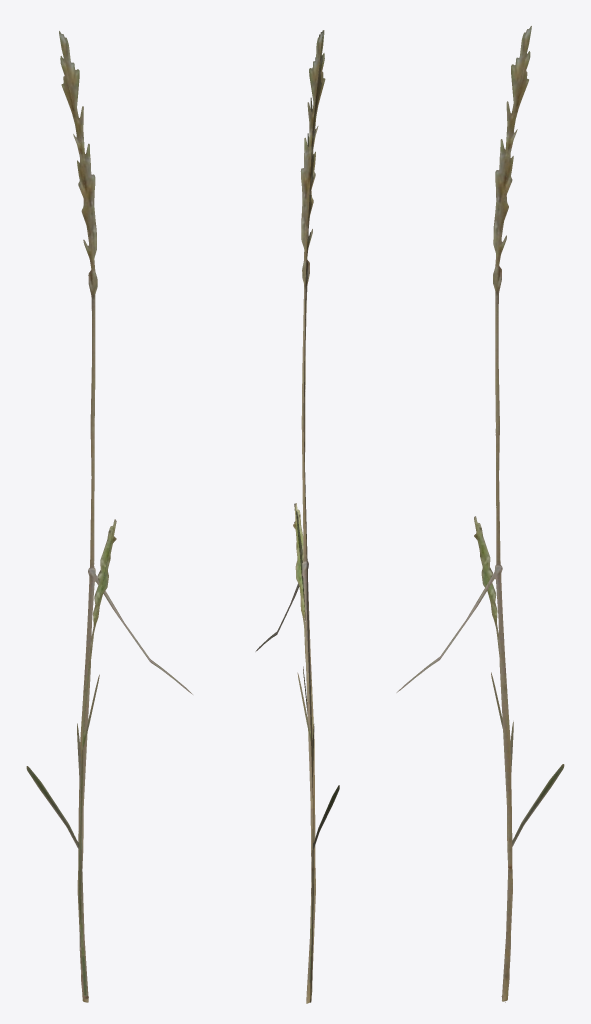
File: WheatGrass_Sprigs.glb
3 views of the same model, side by side, from view 1: azimuth 90°, elevation 25°; view 2: azimuth 210°, elevation 25°; view 3: azimuth 270°, elevation 25° (orthographic).
Parts seen in each view (by area): view 1: WheateGrass_Sprig_01, WheateGrass_Sprig_02, WheateGrass_Sprig_03; view 2: WheateGrass_Sprig_01, WheateGrass_Sprig_02, WheateGrass_Sprig_03; view 3: WheateGrass_Sprig_01, WheateGrass_Sprig_02, WheateGrass_Sprig_03.
Part boxes in pixels (bbox=[...]): WheateGrass_Sprig_01: bbox=[59, 31, 192, 1002]; WheateGrass_Sprig_02: bbox=[78, 519, 116, 996]; WheateGrass_Sprig_03: bbox=[26, 723, 88, 999]; WheateGrass_Sprig_01: bbox=[255, 30, 325, 1003]; WheateGrass_Sprig_02: bbox=[293, 503, 314, 994]; WheateGrass_Sprig_03: bbox=[311, 724, 339, 988]; WheateGrass_Sprig_01: bbox=[396, 26, 531, 1002]; WheateGrass_Sprig_02: bbox=[474, 516, 507, 974]; WheateGrass_Sprig_03: bbox=[501, 721, 564, 996].
Size of the model in its own units: 0.0364 by 0.9412 by 0.1744.
1 material, 1 textured.
